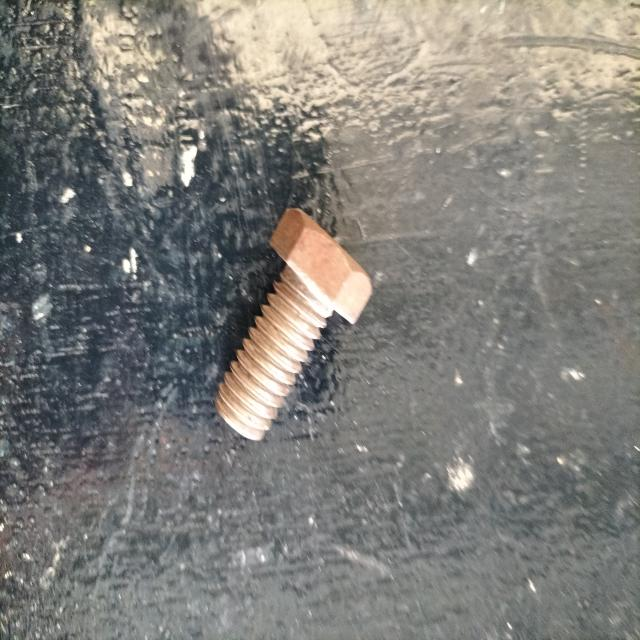bolt: (215, 207, 372, 441)
